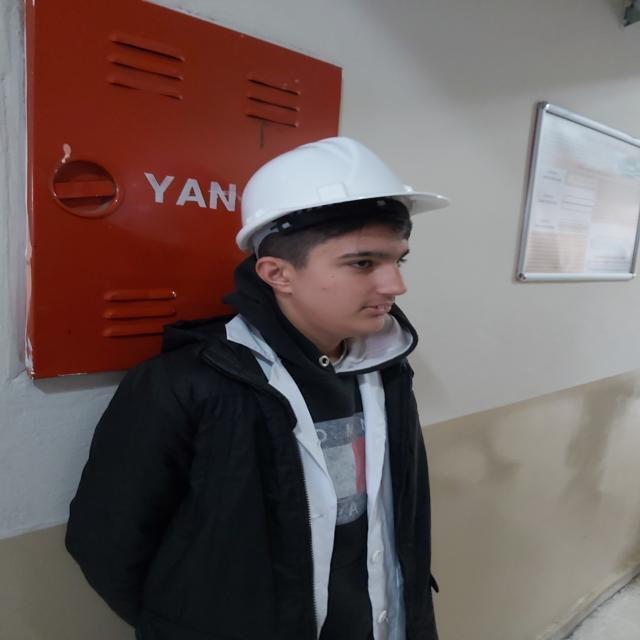helmet: (236, 139, 449, 251)
